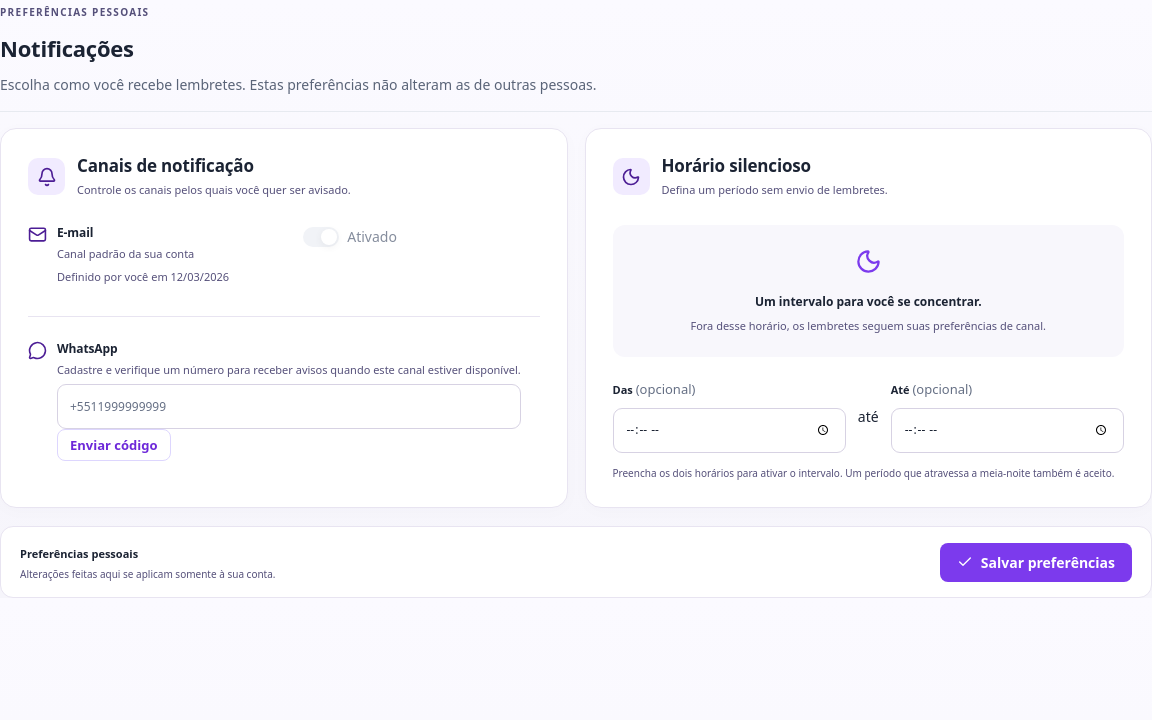
NotificationPreferences (A18, Block 8) › shows the OCC-conflict notice (never the generic error) on a version conflict
The image size is (1152, 720).
Expected: the switch labelled "Ativado" is shown, x1=303 y1=225 x2=397 y2=249
What coordinates should you click on to do the following:
click the button "Salvar preferências"
I would click on:
 (1036, 562)
Its box is x1=940 y1=543 x2=1132 y2=582.
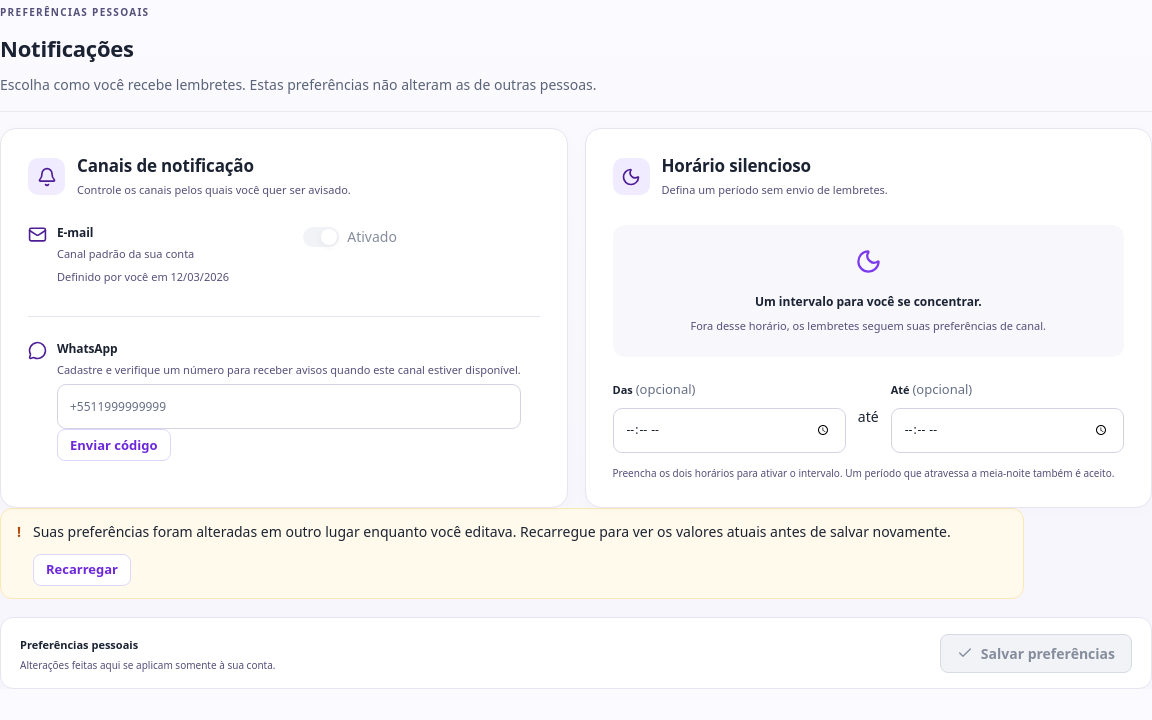
Expected: the text "alteradas em outro lugar" is shown, x1=33 y1=522 x2=951 y2=541
